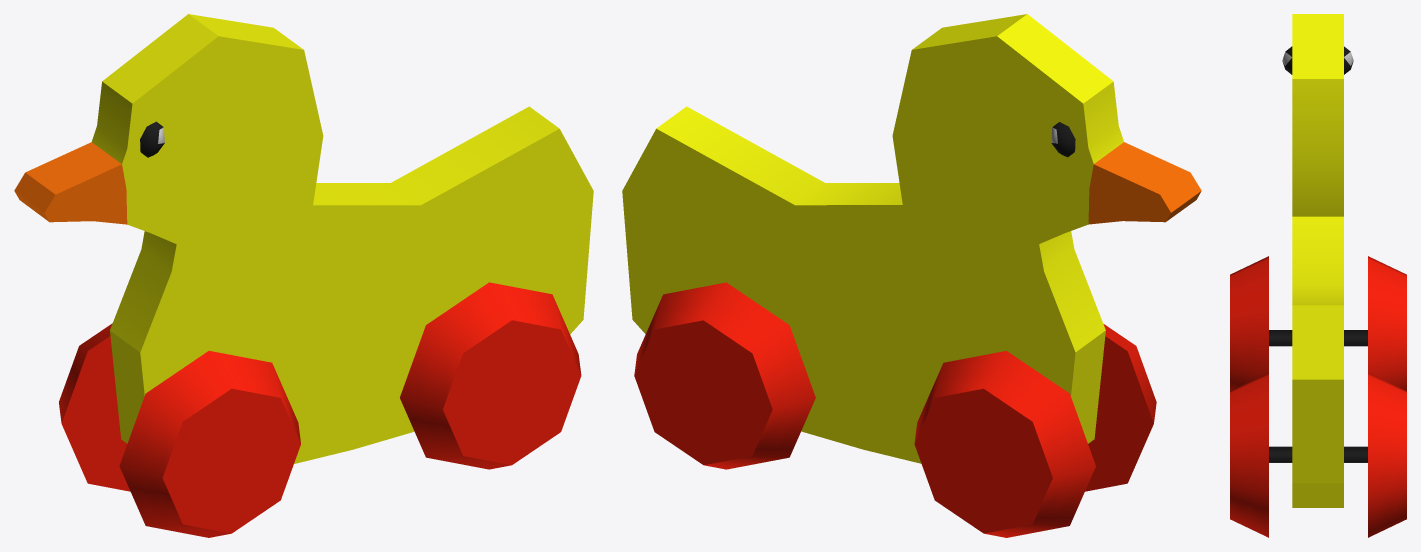
File: Ducky.FBX
3 views of the same model, side by side, from view 1: azimuth 30°, elevation 25°; view 2: azimuth 150°, elevation 25°; view 3: azimuth 270°, elevation 25° (orthographic). The views are drawn at different scales.
Parts seen in each view (by area): view 1: Ducky; view 2: Ducky; view 3: Ducky.
Part boxes in pixels (x1,y1,x2,y2): Ducky: (14, 14, 593, 537); Ducky: (622, 14, 1201, 537); Ducky: (1230, 14, 1406, 537).
Bounding box in the file's own units: 105 × 88.93 × 34.4.
